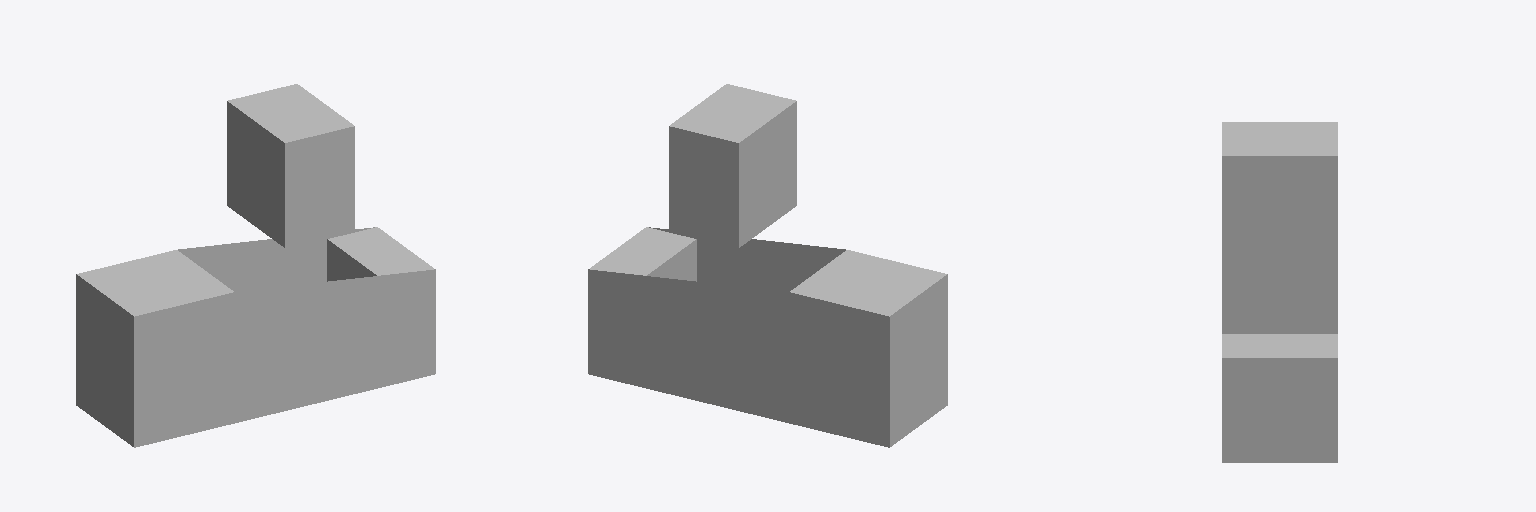
The model's file is OpenMaze.obj.
The picture shows the model from 3 angles: view 1: azimuth 30°, elevation 25°; view 2: azimuth 150°, elevation 25°; view 3: azimuth 270°, elevation 25°; orthographic projection.
Parts seen in each view (by area): view 1: OpenMaze; view 2: OpenMaze; view 3: OpenMaze.
Boxes of the visible parts, x1=… form: OpenMaze: x1=76, y1=84, x2=435, y2=447; OpenMaze: x1=588, y1=84, x2=947, y2=447; OpenMaze: x1=1222, y1=122, x2=1337, y2=462.
Bounding box in the file's own units: 3 × 2.55 × 1.